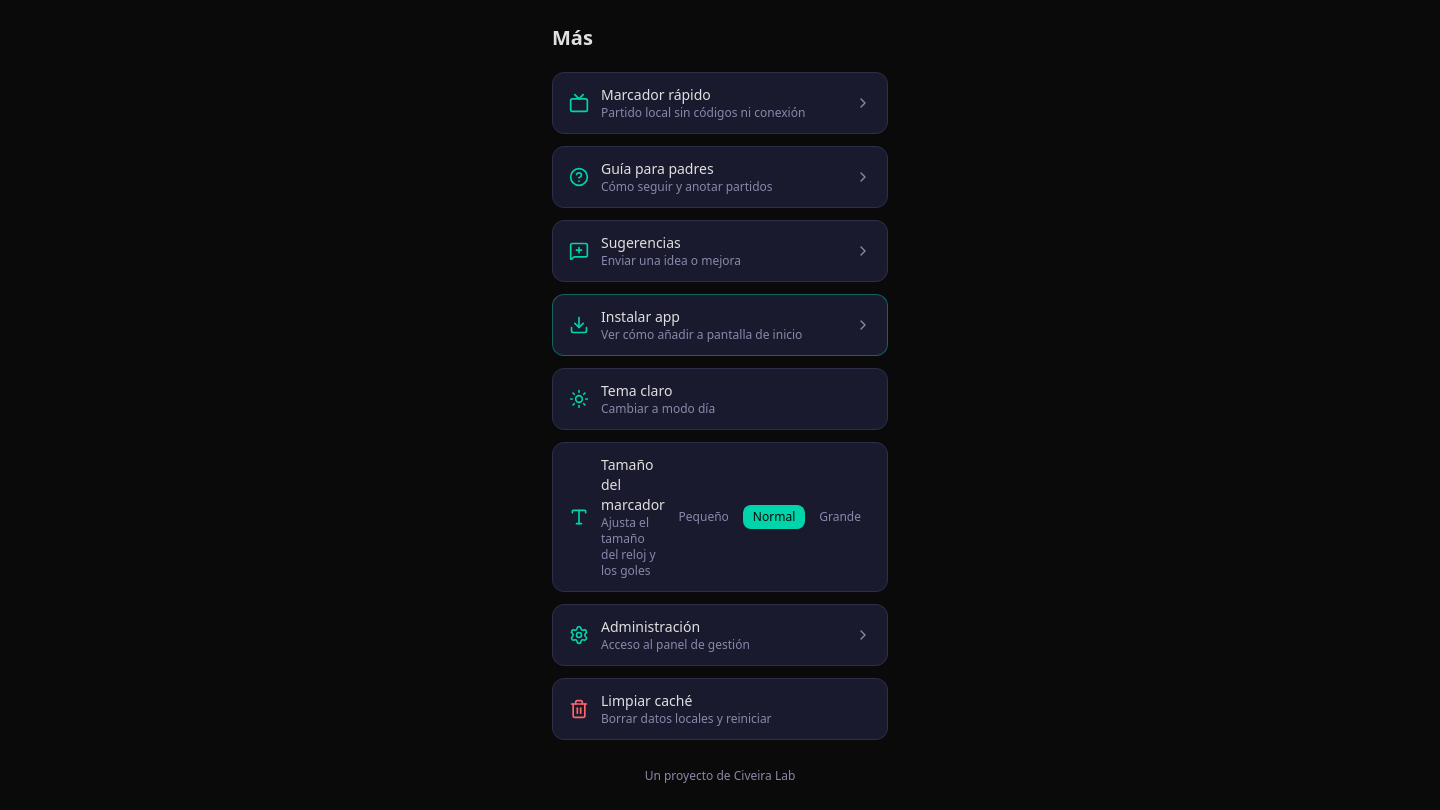
Test: MoreTab › shows ios install button that opens step-by-step modal when state is ios-tip
What coordinates should you click on to do the following:
click the button "Instalar app Ver cómo añadir a pantalla de inicio"
I would click on:
 (720, 325)
Its box is [552,294,888,356].
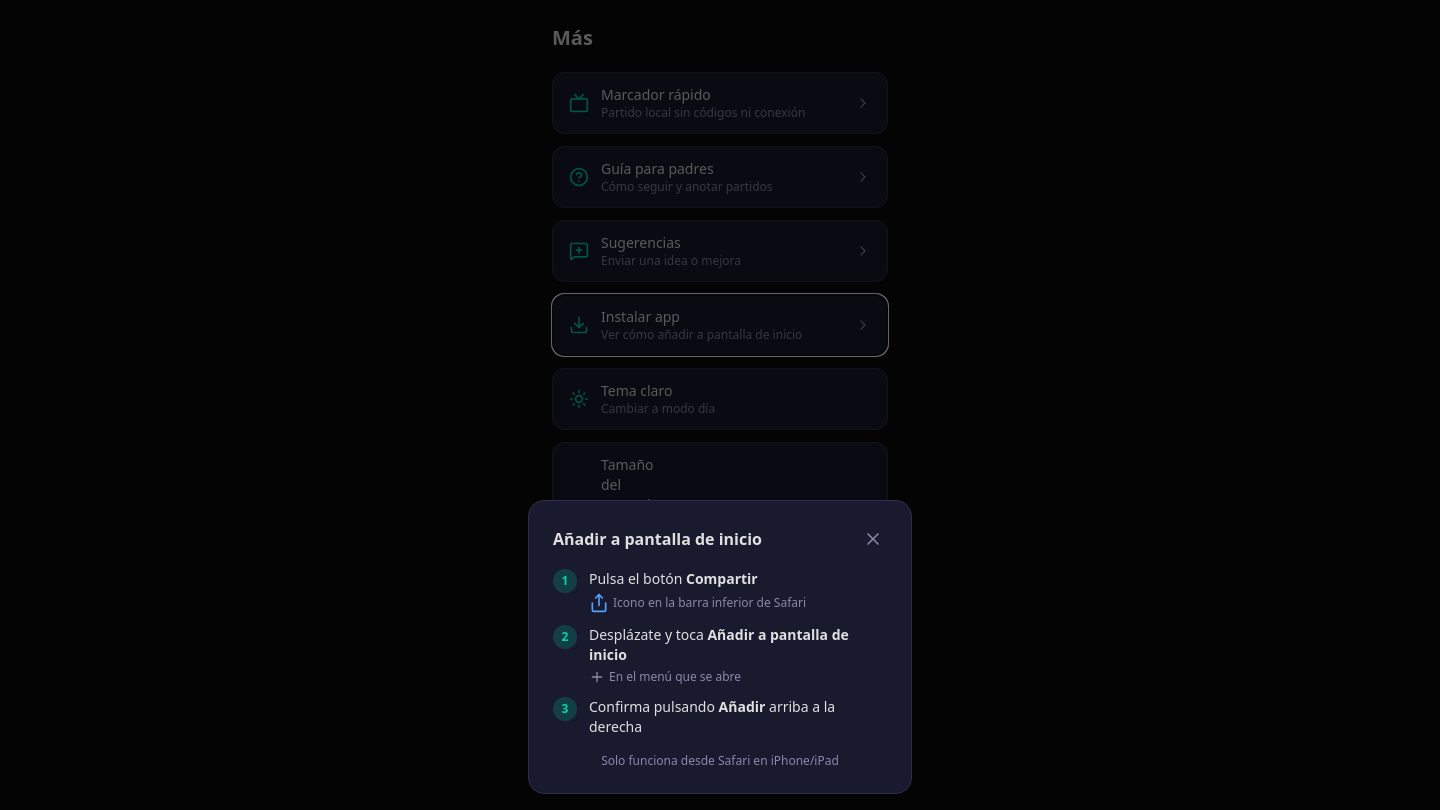
Result: the dialog "Añadir a pantalla de inicio" is shown
Result: the text "Compartir" is shown at [686,569,758,588]
Result: the text "Confirma pulsando Añadir arriba a la derecha" is shown at [589,697,835,736]
